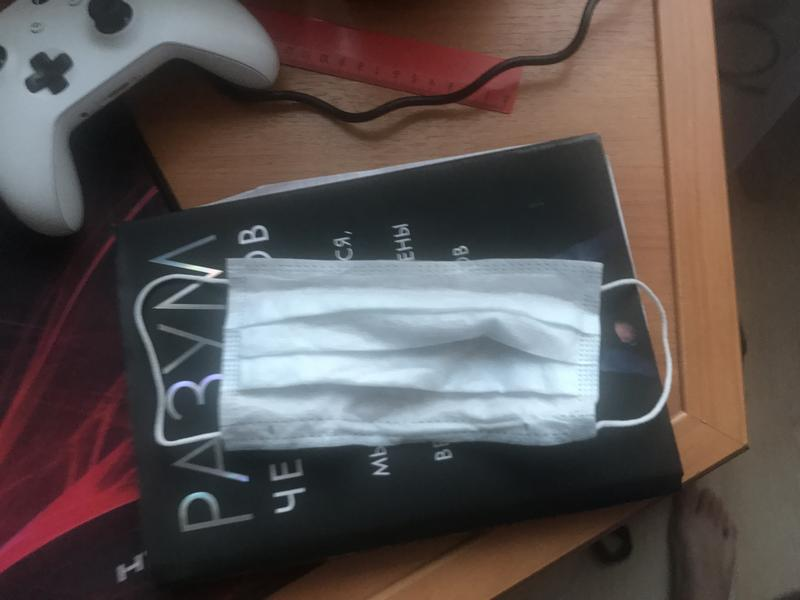medical_mask: (133, 256, 676, 444)
